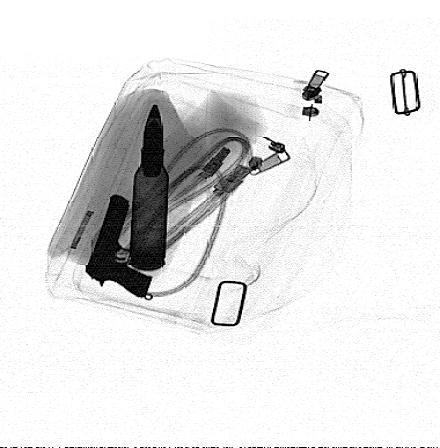Bullet: (131, 103, 168, 271)
Gun: (84, 192, 152, 299)
